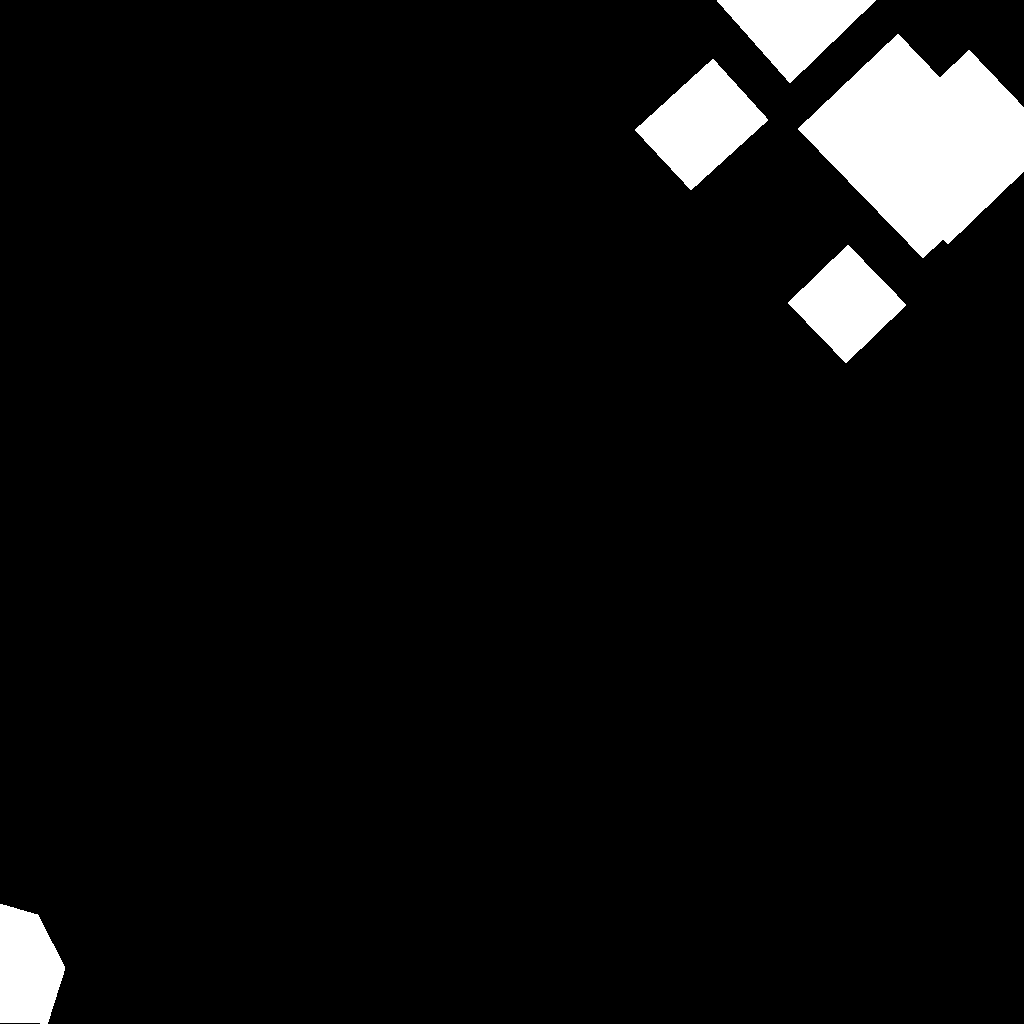building: (798, 34, 1024, 259), (635, 59, 769, 191), (788, 245, 907, 364), (716, 0, 877, 84), (0, 904, 66, 1024)
